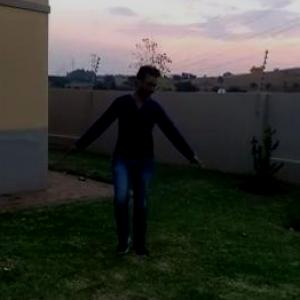land: (62, 66, 209, 264)
